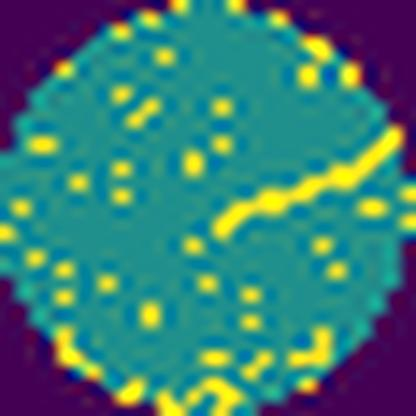Scratch: (210, 121, 404, 246)
